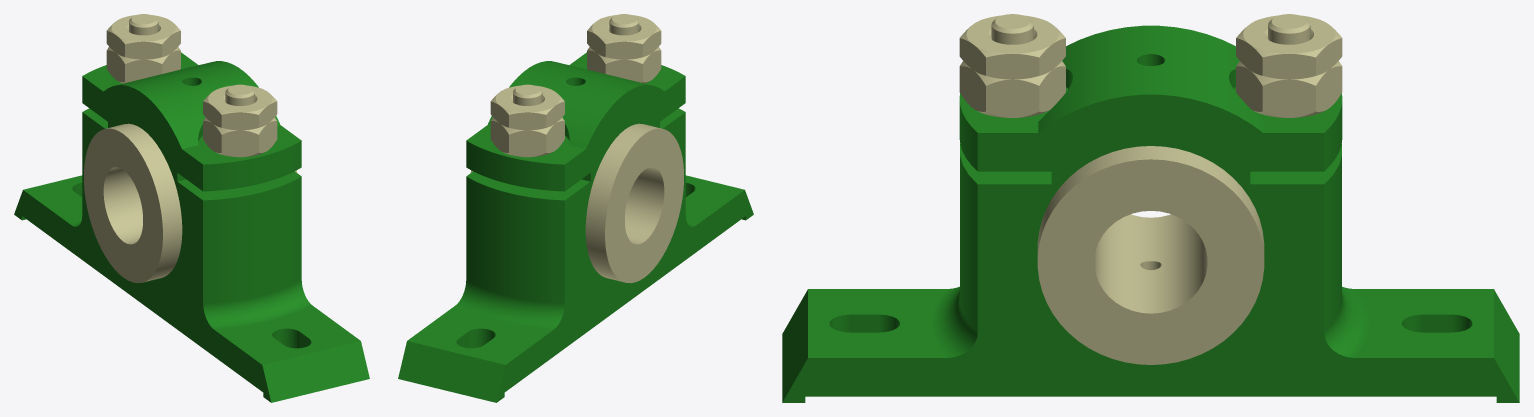
The picture shows the model from 3 angles, left to right: view 1: azimuth 30°, elevation 25°; view 2: azimuth 150°, elevation 25°; view 3: azimuth 270°, elevation 25°; orthographic projection. The views are drawn at different scales.
Parts seen in each view (by area): view 1: Solid1 (×8), Solid2; view 2: Solid1 (×8), Solid2; view 3: Solid1 (×8), Solid2.
Part boxes in pixels (x1,y1,x2,y2): Solid1 (×8): (14, 14, 369, 402); Solid2: (82, 52, 301, 191); Solid1 (×8): (398, 14, 753, 402); Solid2: (466, 52, 685, 191); Solid1 (×8): (782, 14, 1519, 402); Solid2: (959, 25, 1342, 198).
Size of the model in its own units: 0.064 by 0.108 by 0.208.
